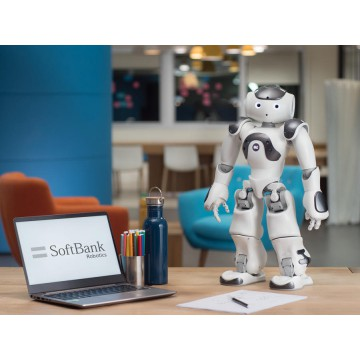person-like: (201, 79, 333, 294)
